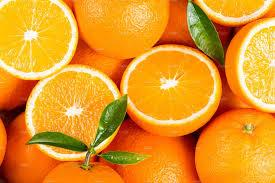orange: (113, 47, 229, 143), (26, 61, 129, 154), (186, 103, 275, 183), (0, 1, 85, 79), (58, 0, 169, 59), (212, 11, 275, 110)
